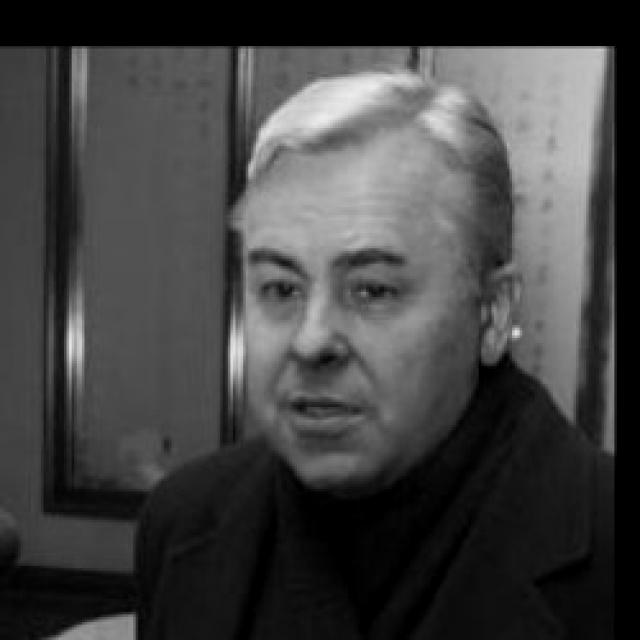real: (234, 142, 493, 492), (244, 253, 415, 319)
